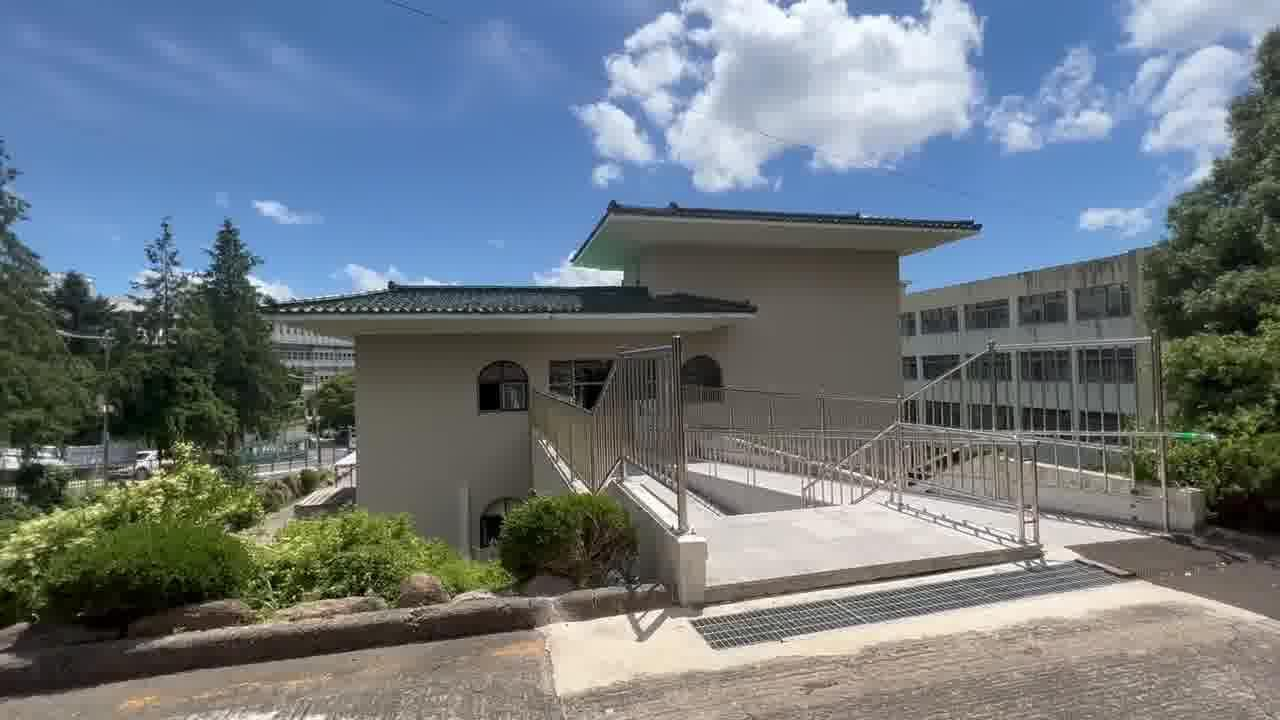building: (324, 186, 953, 481)
